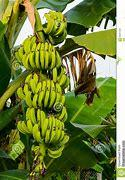banana: (13, 20, 76, 174), (11, 109, 73, 168), (8, 74, 83, 109), (10, 37, 61, 65), (27, 9, 70, 41)
